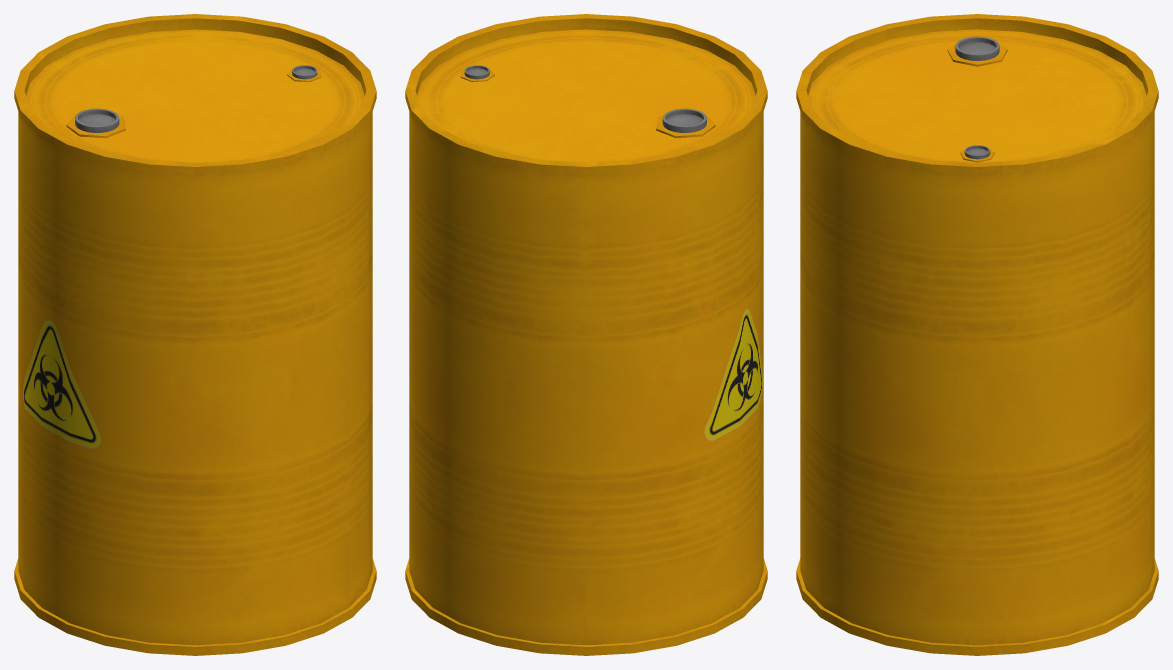
File: oil barrel.fbx
The picture shows the model from 3 angles, left to right: view 1: azimuth 30°, elevation 25°; view 2: azimuth 150°, elevation 25°; view 3: azimuth 270°, elevation 25°; orthographic projection.
Parts seen in each view (by area): view 1: Oil_Quad; view 2: Oil_Quad; view 3: Oil_Quad.
Part boxes in pixels (x1,y1,x2,y2): Oil_Quad: (14, 14, 376, 655); Oil_Quad: (405, 14, 767, 655); Oil_Quad: (796, 14, 1158, 655).
Bounding box in the file's own units: 5968 × 8890 × 5968.
